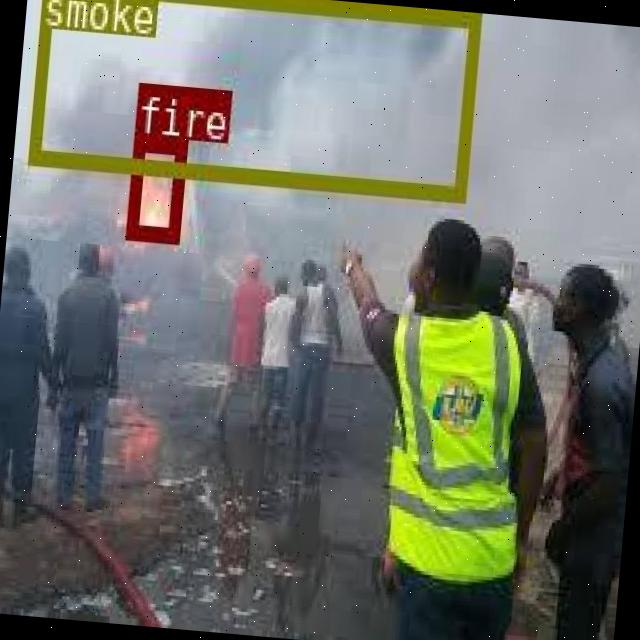fire: (124, 134, 184, 241)
smoke: (25, 0, 480, 200)
